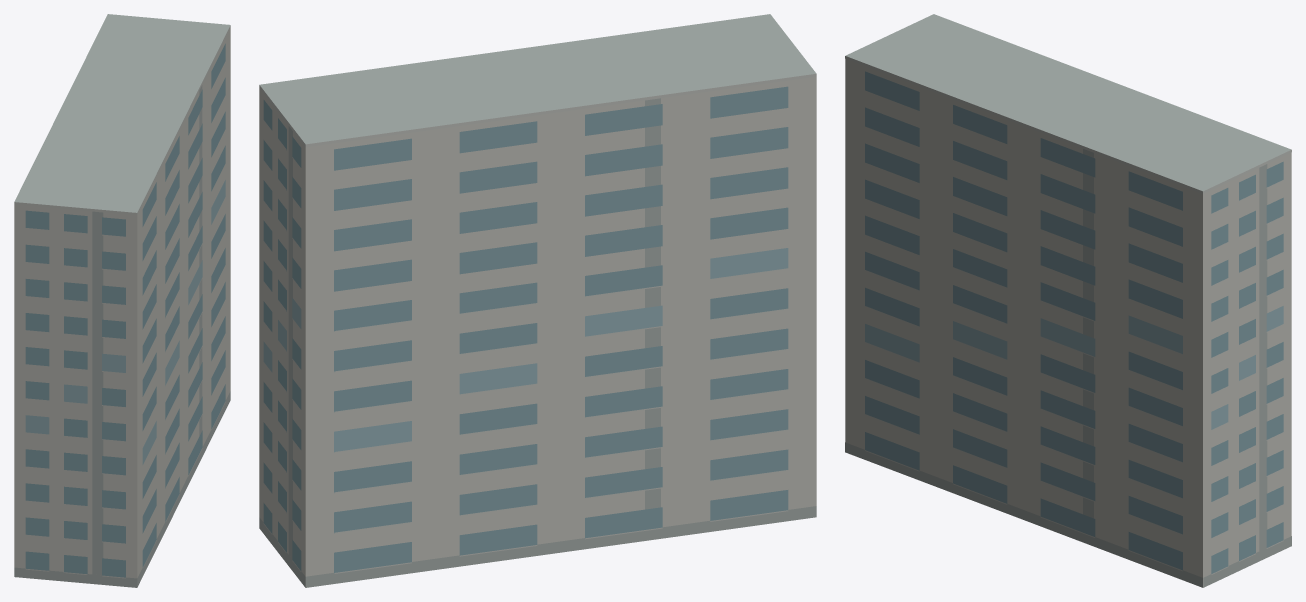
File: residential-a80420fe-f4c1-4e9e-8ee2-4979f0b7d42f.glb
3 views of the same model, side by side, from view 1: azimuth 30°, elevation 25°; view 2: azimuth 150°, elevation 25°; view 3: azimuth 270°, elevation 25° (orthographic). The views are drawn at different scales.
Parts seen in each view (by area): view 1: residential-a80420fe-f4c1-4e9e-8ee2-4979f0b7d42f.tmp; view 2: residential-a80420fe-f4c1-4e9e-8ee2-4979f0b7d42f.tmp; view 3: residential-a80420fe-f4c1-4e9e-8ee2-4979f0b7d42f.tmp.
Boxes of the visible parts, bbox=[...] form: residential-a80420fe-f4c1-4e9e-8ee2-4979f0b7d42f.tmp: bbox=[14, 14, 230, 587]; residential-a80420fe-f4c1-4e9e-8ee2-4979f0b7d42f.tmp: bbox=[259, 14, 816, 587]; residential-a80420fe-f4c1-4e9e-8ee2-4979f0b7d42f.tmp: bbox=[845, 14, 1291, 587].
Size of the model in its own units: 33.59 by 35 by 35.73.
